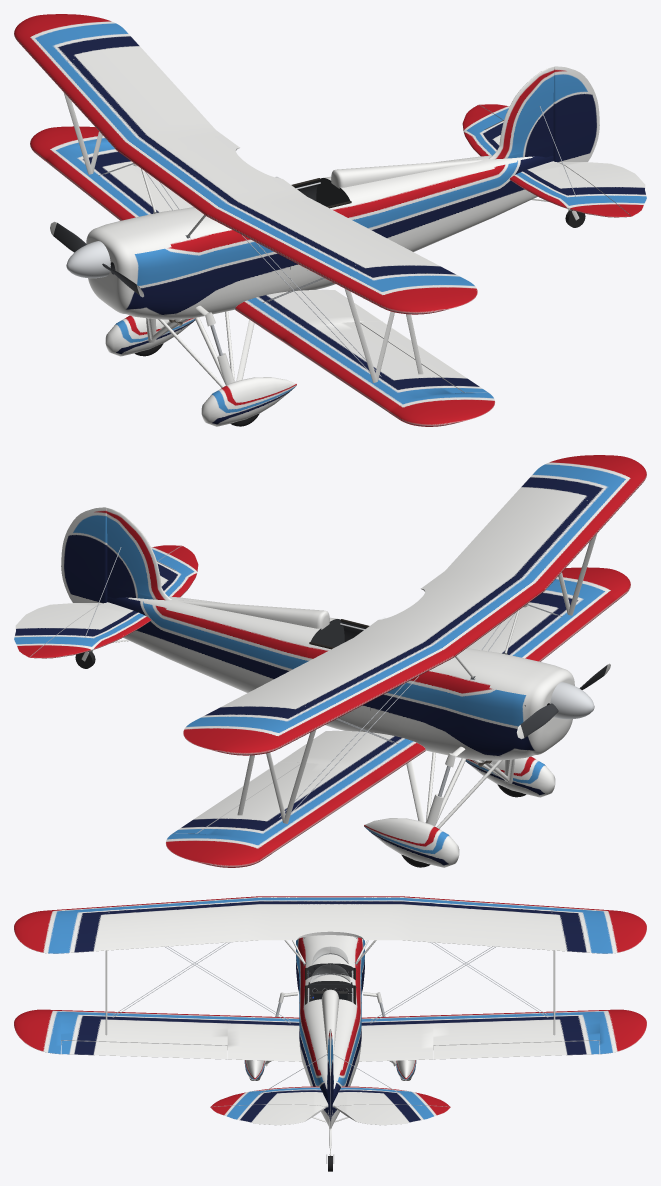
The model's file is great-lakes-like-own-white-stripes.glb.
The picture shows the model from 3 angles, top to bottom: view 1: azimuth 30°, elevation 25°; view 2: azimuth 150°, elevation 25°; view 3: azimuth 270°, elevation 25°; orthographic projection. The views are drawn at different scales.
Parts seen in each view (by area): view 1: Wing_Upper, Fuselage_Painted, Wing_Lower, Stab, Rudder, Fin, Wheel_Pant_L, Elevator_L, Strut_Interplane, Wheel_Pant_R, Headrest, Aileron_LL (+4 smaller); view 2: Wing_Upper, Fuselage_Painted, Wing_Lower, Stab, Rudder, Fin, Wheel_Pant_R, Elevator_R, Strut_Interplane, Wheel_Pant_L, Headrest, Aileron_LR (+4 smaller); view 3: Wing_Upper, Wing_Lower, Fuselage_Painted, Stab, Aileron_LL, Aileron_LR, Elevator_L, Elevator_R, Wire_Bracing, Headrest, Strut_Interplane, Cockpit (+1 smaller).
Part boxes in pixels (x1,y1,x2,y2): Wing_Upper: (14, 14, 477, 314); Fuselage_Painted: (86, 155, 553, 319); Wing_Lower: (30, 126, 494, 426); Stab: (462, 105, 630, 217); Rudder: (553, 66, 599, 162); Fin: (489, 66, 554, 159); Wheel_Pant_L: (201, 377, 296, 426); Elevator_L: (558, 162, 646, 216); Strut_Interplane: (63, 92, 423, 382); Wheel_Pant_R: (105, 315, 195, 356); Headrest: (331, 159, 482, 188); Aileron_LL: (360, 321, 487, 392); Wing_Upper: (183, 455, 646, 755); Fuselage_Painted: (107, 596, 574, 760); Wing_Lower: (166, 567, 630, 867); Stab: (30, 546, 198, 658); Rudder: (61, 507, 107, 603); Fin: (106, 507, 171, 600); Wheel_Pant_R: (364, 818, 459, 867); Elevator_R: (14, 603, 102, 657); Strut_Interplane: (237, 533, 597, 823); Wheel_Pant_L: (465, 756, 555, 797); Headrest: (178, 600, 329, 629); Aileron_LR: (173, 762, 300, 833); Wing_Upper: (14, 896, 646, 953); Wing_Lower: (14, 1009, 646, 1061); Fuselage_Painted: (296, 935, 364, 1128); Stab: (210, 1086, 450, 1107); Aileron_LL: (61, 1040, 227, 1059); Aileron_LR: (433, 1040, 599, 1059); Elevator_L: (210, 1104, 325, 1125); Elevator_R: (335, 1104, 450, 1125); Wire_Bracing: (108, 910, 552, 1094); Headrest: (321, 989, 339, 1055); Strut_Interplane: (105, 950, 555, 1035); Cockpit: (304, 970, 356, 1002).
Size of the model in its own units: 6.24 by 2.62 by 8.13.
38 materials, 7 textured.
